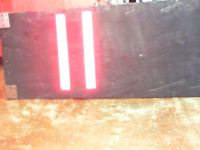switch: (55, 14, 71, 90), (82, 10, 96, 89)
